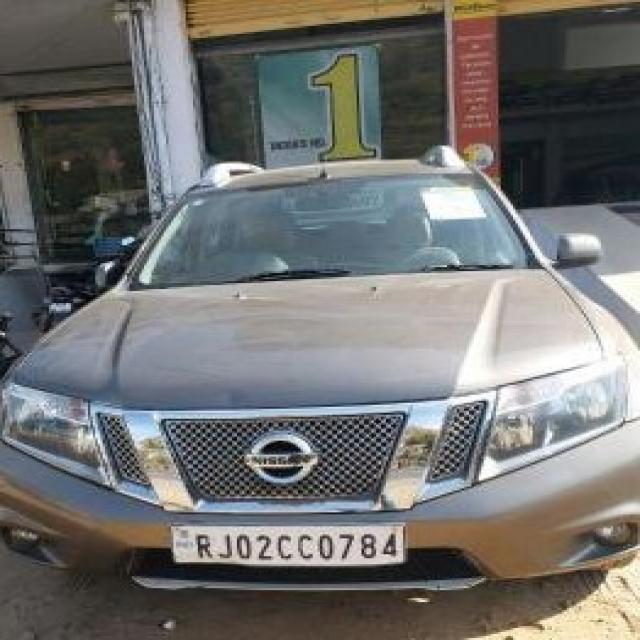license-plate: (169, 520, 403, 564)
